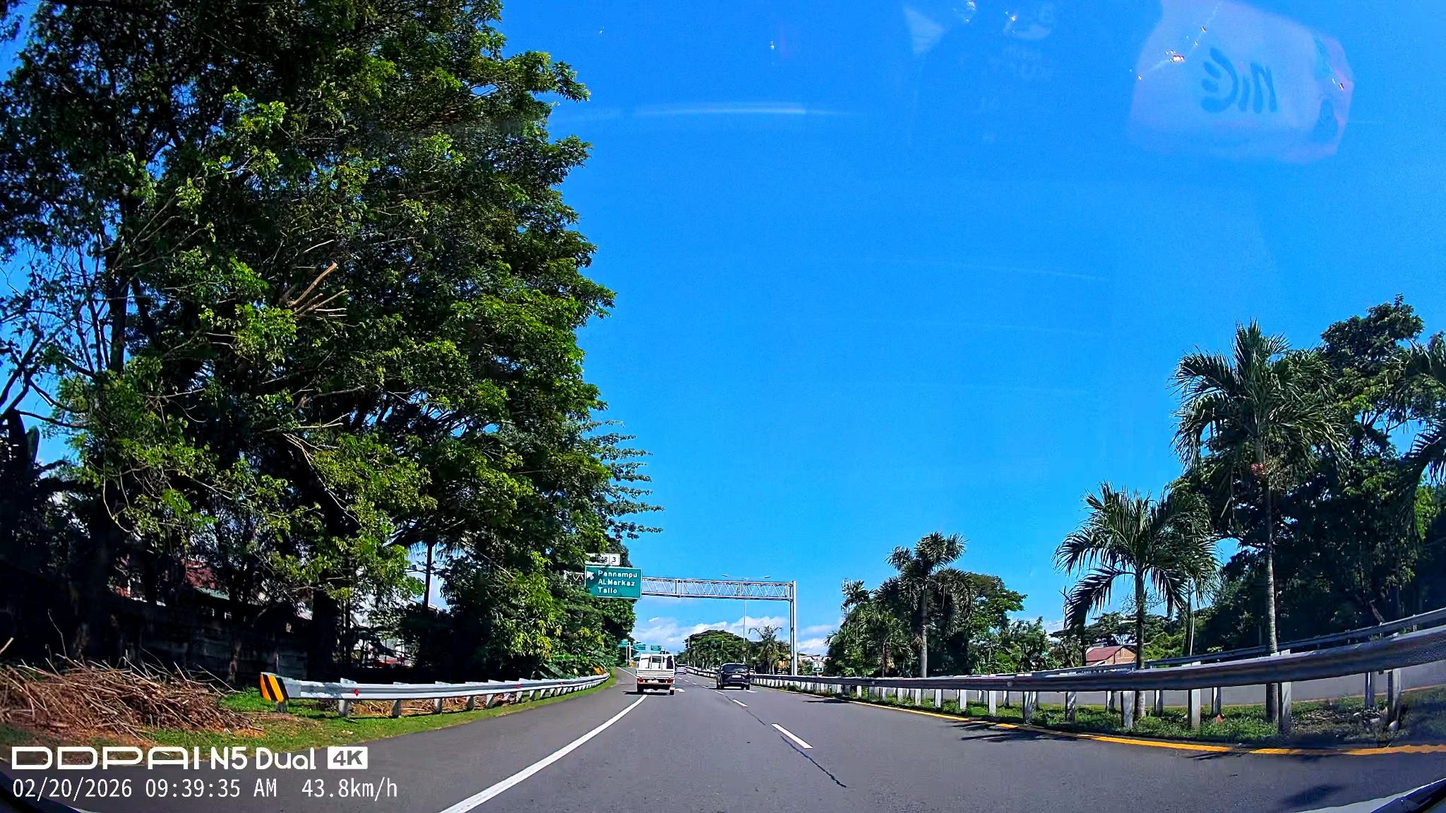rambu_teks: (584, 565, 642, 600)
